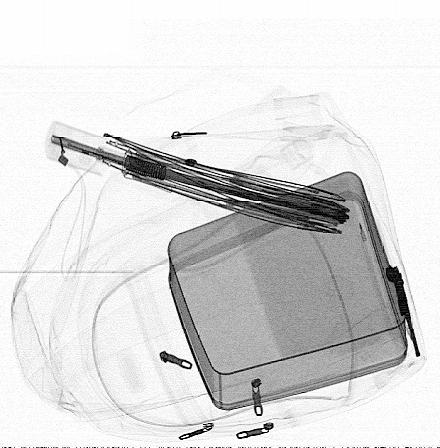Gun: (385, 265, 422, 359)
